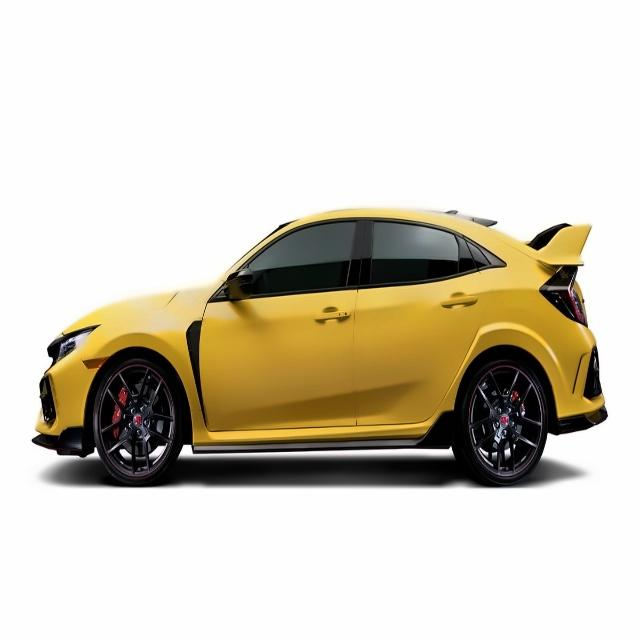Car hood: (58, 286, 181, 338)
Fender - -F-L-: (79, 285, 210, 449)
Fender - -R-L-: (456, 266, 564, 403)
Front bumper: (28, 366, 98, 466)
Passenger-s door - -F-L-: (210, 208, 357, 434)
Passenger-s door - -R-L-: (357, 207, 493, 429)
Rear bumper: (548, 342, 616, 436)
Rear light - -L-: (536, 259, 591, 328)
Side bumper - -L-: (186, 418, 436, 458), (37, 321, 105, 382)
Side mirror - -L-: (224, 267, 262, 307)
